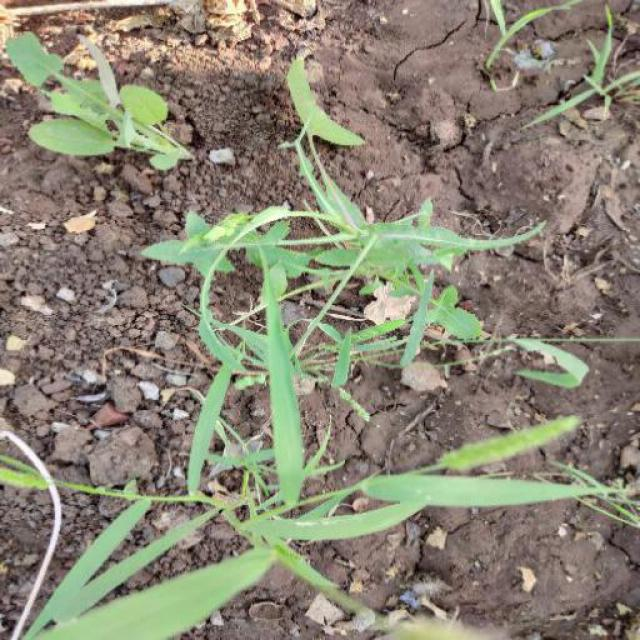weed: (1, 186, 634, 640)
